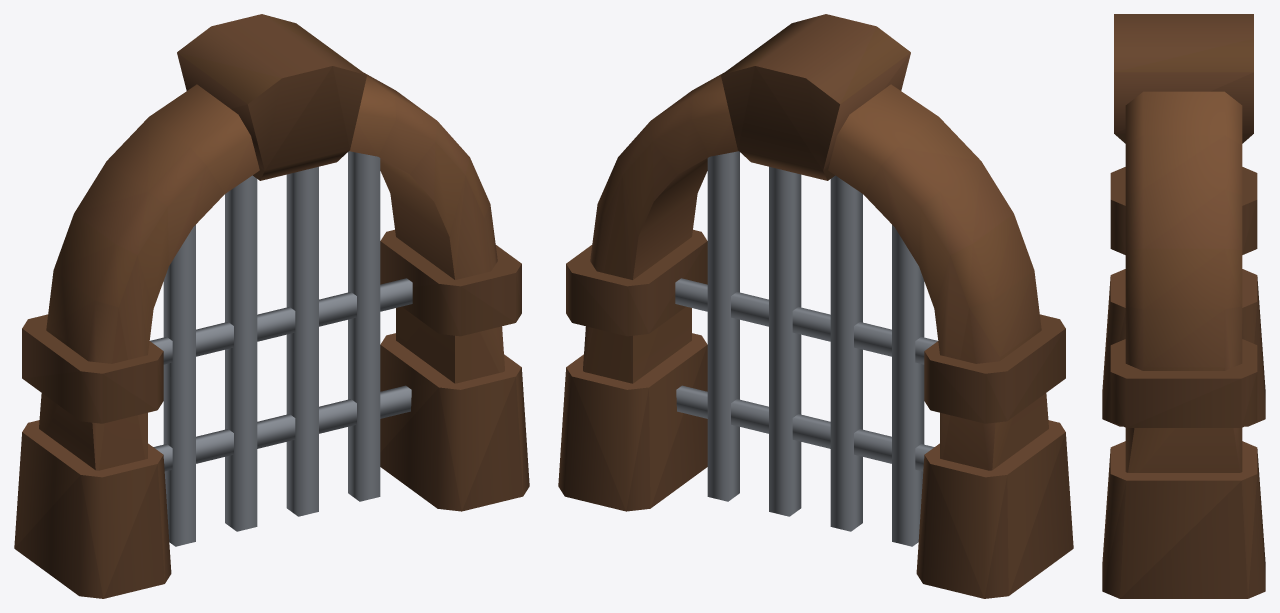
Rendered from kenney_cave_gate_metal_bars.glb.
The picture shows the model from 3 angles, left to right: view 1: azimuth 30°, elevation 25°; view 2: azimuth 150°, elevation 25°; view 3: azimuth 270°, elevation 25°; orthographic projection.
Visible parts, largest first — view 1: wood, metal; view 2: wood, metal; view 3: wood.
Part boxes in pixels (x1=…): wood: x1=14, y1=14, x2=529, y2=598; metal: x1=150, y1=151, x2=412, y2=546; wood: x1=558, y1=14, x2=1073, y2=598; metal: x1=675, y1=151, x2=937, y2=546; wood: x1=1102, y1=14, x2=1265, y2=598.
Size of the model in its own units: 4.4 by 4.4 by 1.4.
